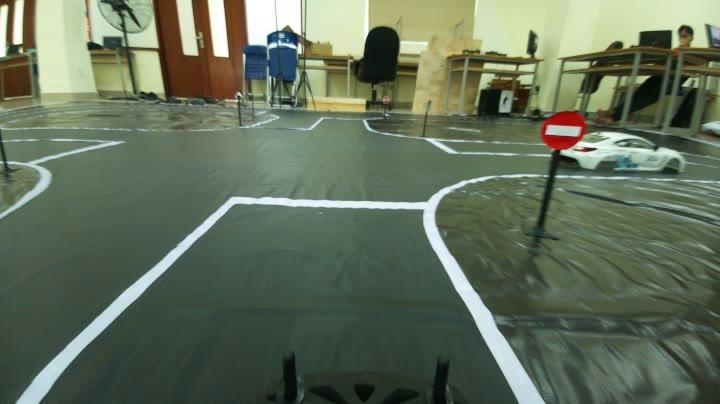no_entry: (534, 102, 592, 154)
